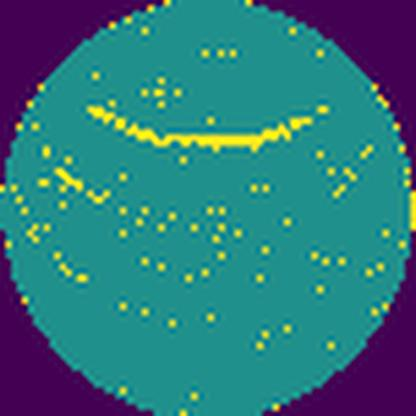Scratch: (84, 100, 330, 156)
